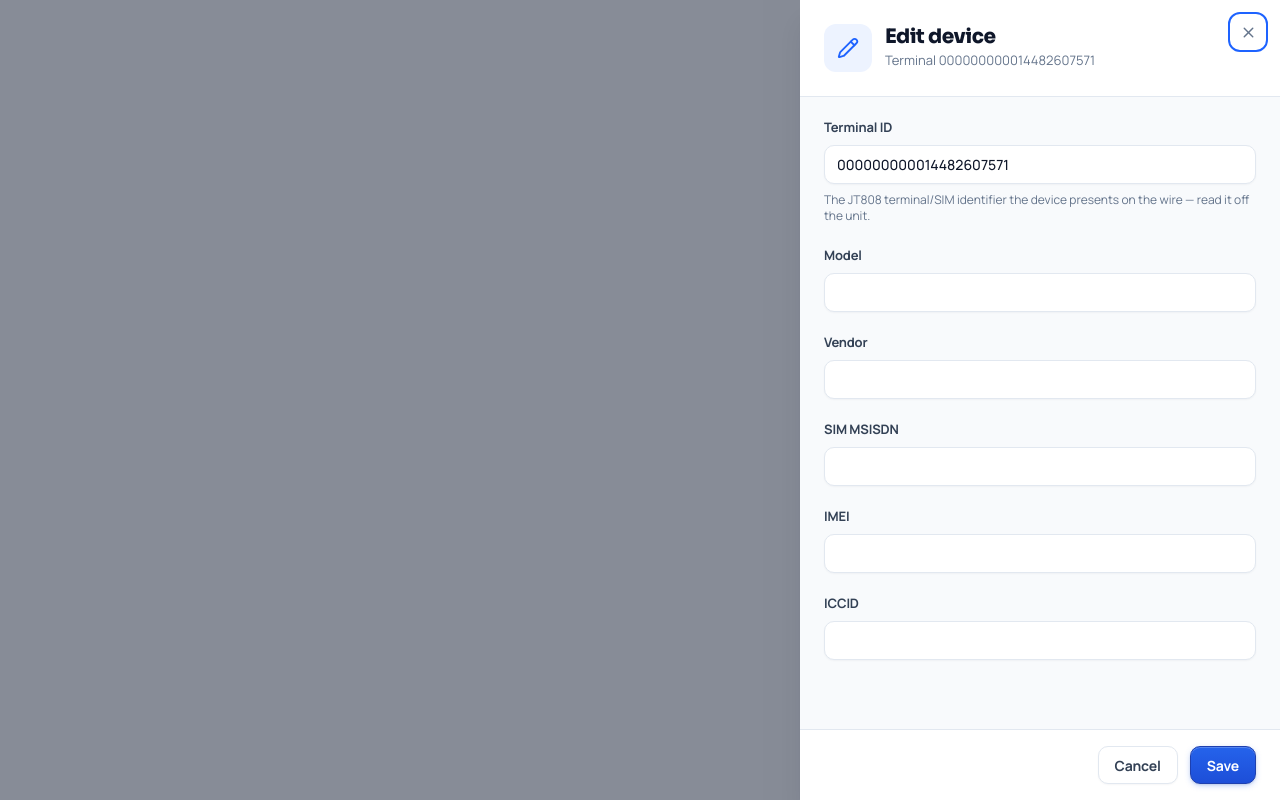
EditDeviceForm › cancelling the terminal-ID confirmation leaves the device unchanged
The width and height of the screenshot is (1280, 800).
Replace the text in the field showing "000000000014482607571" with "00000000014482607571" at point(1040, 165), box [824, 145, 1256, 184]
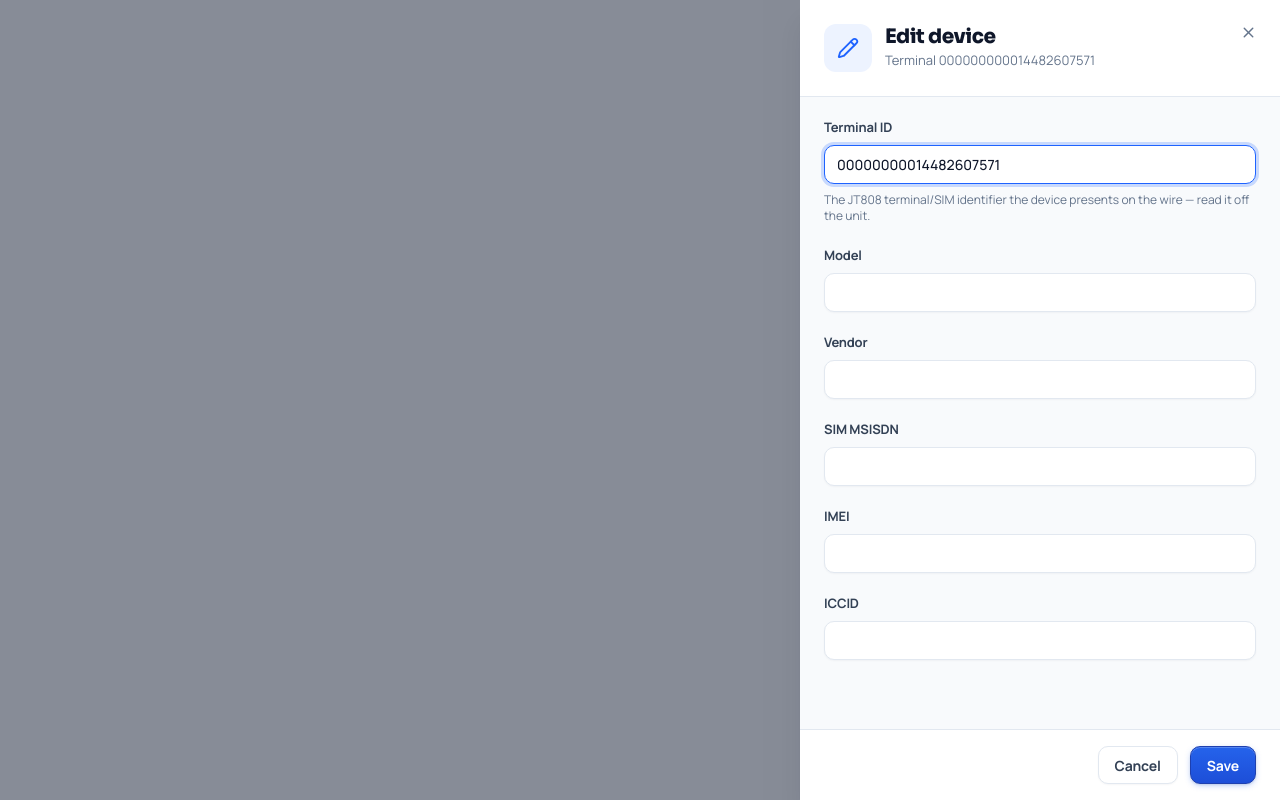
Click the button "Save" at point(1223, 765), box [1190, 746, 1256, 784]
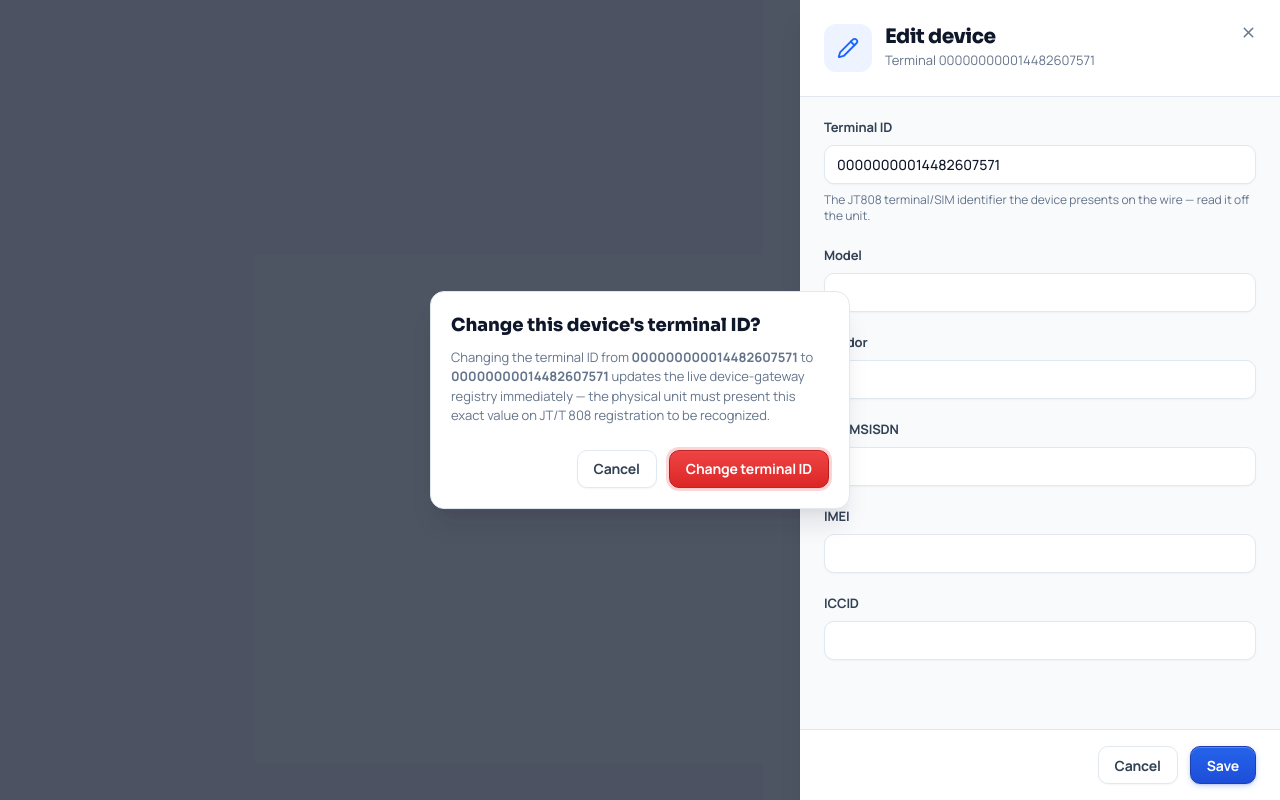
Click the button "Cancel" below "Changing the terminal ID from" at point(617, 469), box [576, 450, 657, 488]
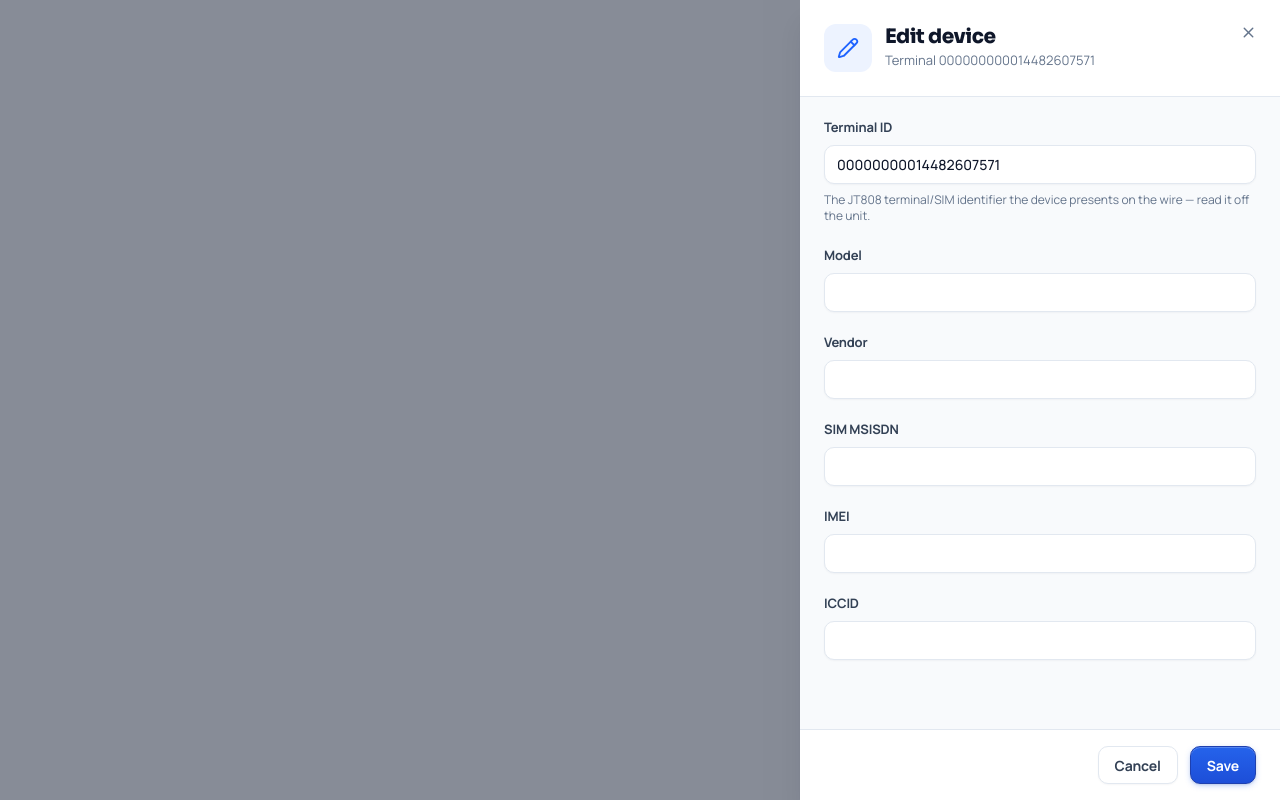
Check: the text "Change this device's terminal ID?" is gone
